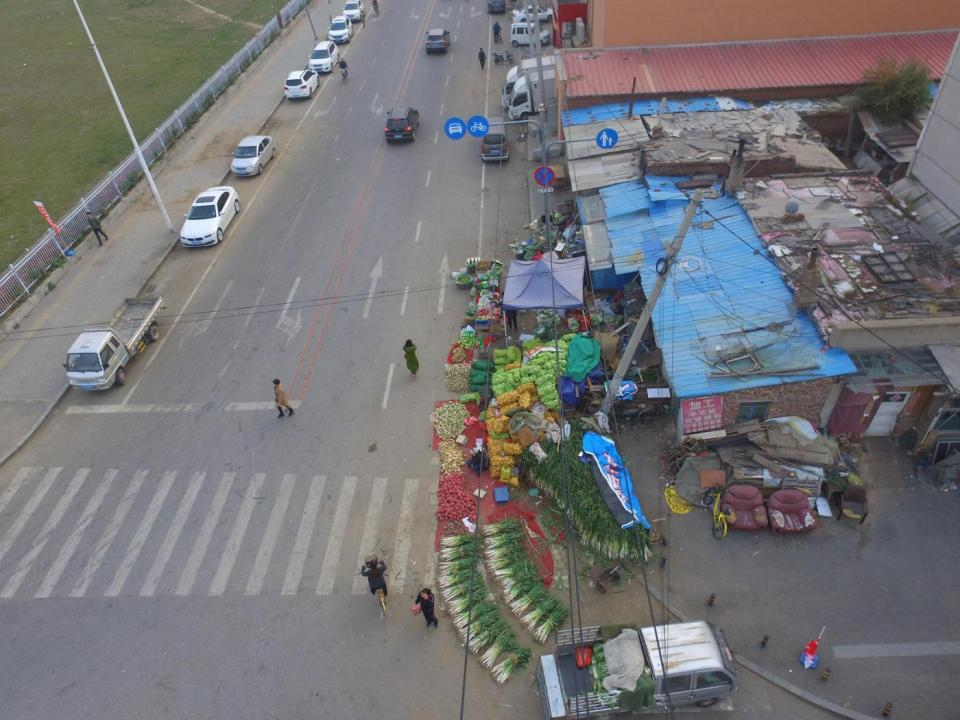car: (179, 186, 241, 249), (230, 134, 276, 177), (384, 106, 420, 144), (283, 69, 321, 101), (307, 40, 340, 75), (510, 22, 551, 48), (512, 4, 560, 24), (327, 14, 354, 44), (425, 28, 451, 54), (341, 0, 365, 22)
truck: (63, 295, 168, 391), (501, 50, 599, 110), (508, 66, 608, 122)
van: (536, 618, 738, 720), (481, 116, 508, 162)
